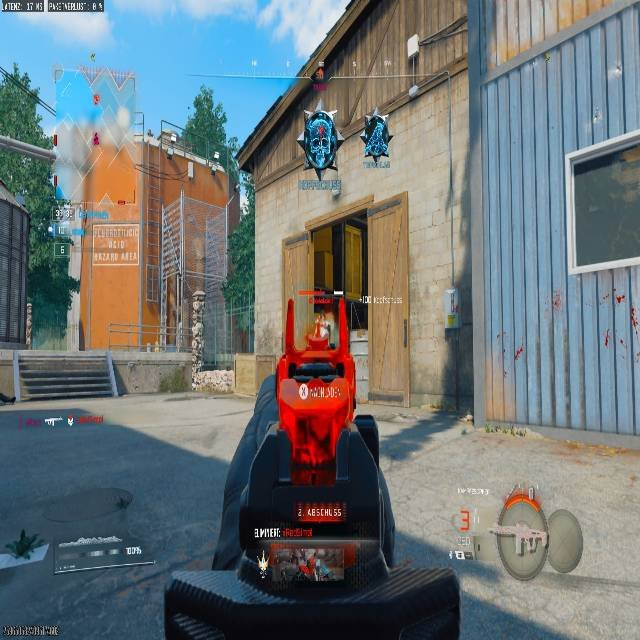player: (362, 111, 391, 166)
